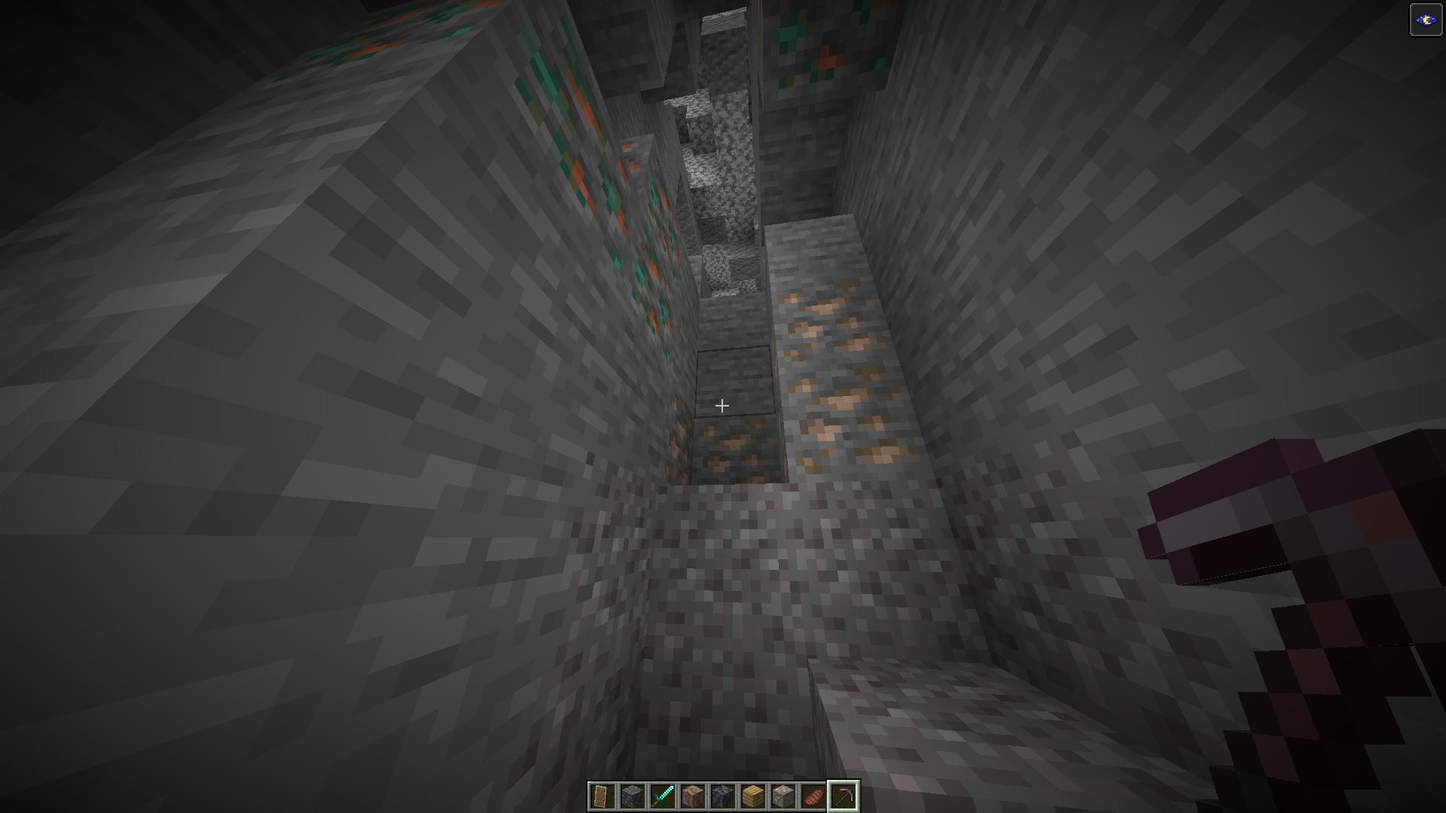iron ore: (774, 384, 926, 487), (768, 281, 897, 396), (692, 415, 779, 483)
